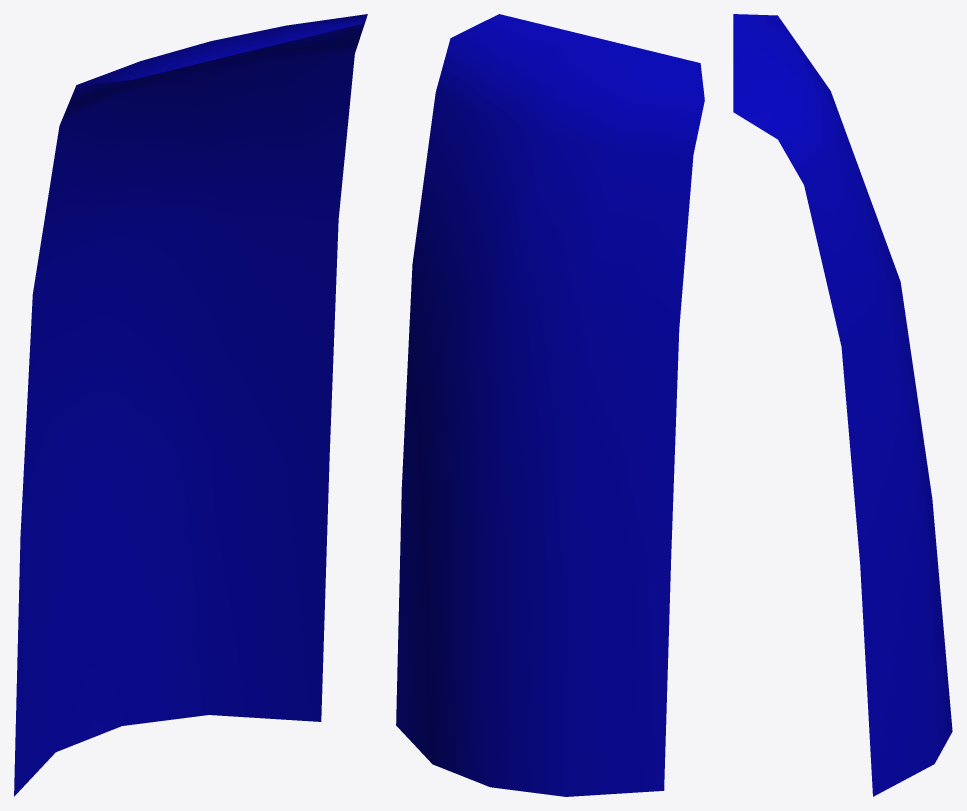
Rendered from f_cape_medium.dae.
3 views of the same model, side by side, from view 1: azimuth 30°, elevation 25°; view 2: azimuth 150°, elevation 25°; view 3: azimuth 270°, elevation 25° (orthographic). The views are drawn at different scales.
Visible parts, largest first — view 1: f_cape_medium_PIVOT; view 2: f_cape_medium_PIVOT; view 3: f_cape_medium_PIVOT.
Part boxes in pixels (bbox=[...]): f_cape_medium_PIVOT: bbox=[14, 14, 367, 796]; f_cape_medium_PIVOT: bbox=[396, 14, 704, 796]; f_cape_medium_PIVOT: bbox=[733, 14, 952, 796].
Bounding box in the file's own units: 0.7658 × 0.5393 × 1.81.
